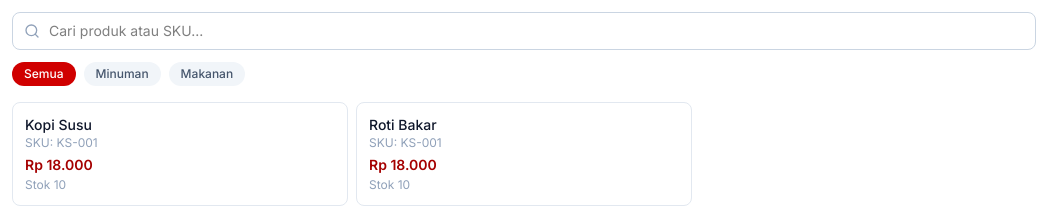
it: ProductGrid › filter kategori cuma nampilin produk di kategori itu
Click the button "Makanan".
click(207, 74)  # box [169,62,245,86]
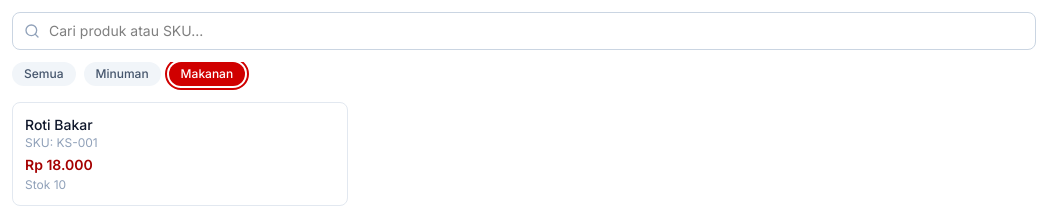
expect the text "Roti Bakar" is shown: met, box [25,115,93,135]
expect the button "Kopi Susu" is gone: met
